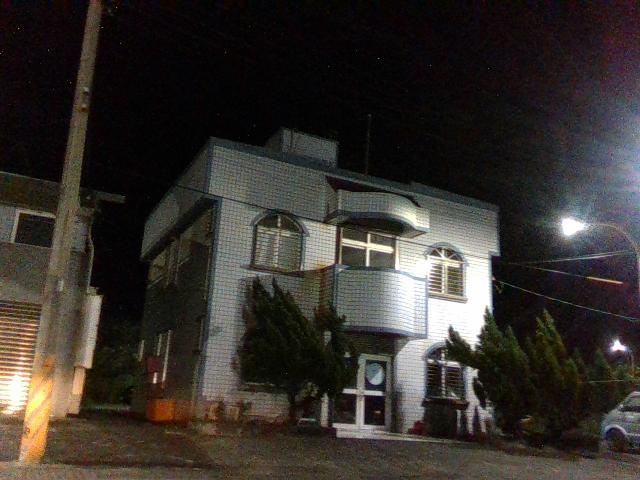pollute: (141, 400, 178, 427)
